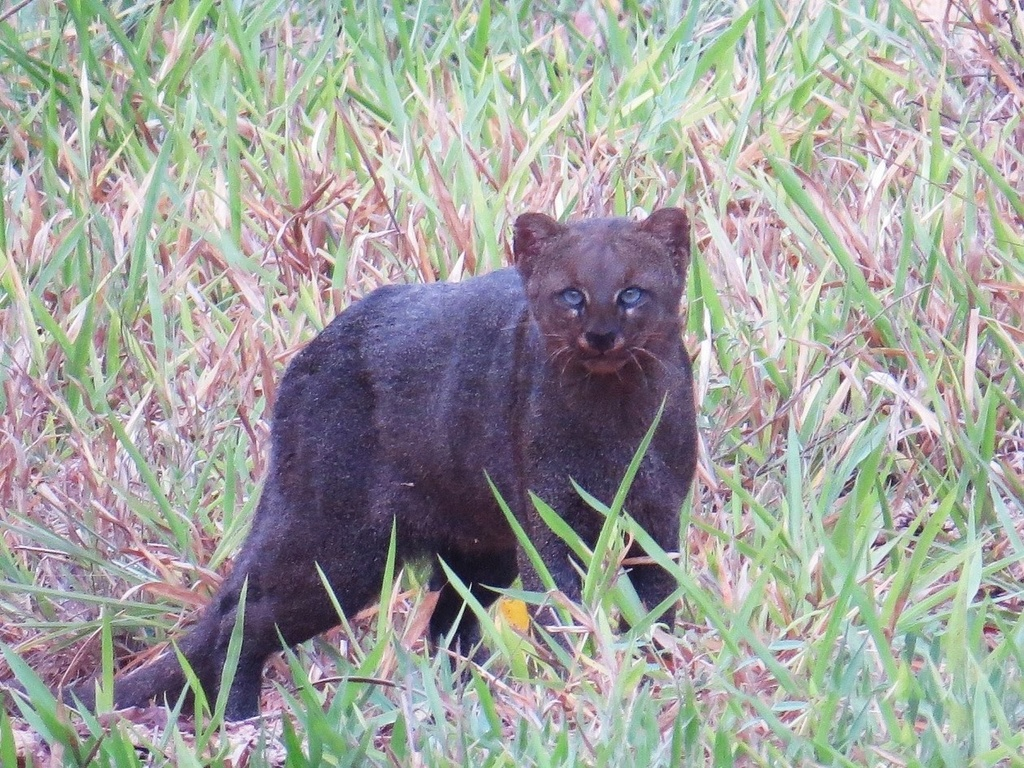Jaguarundi: (76, 200, 720, 715)
